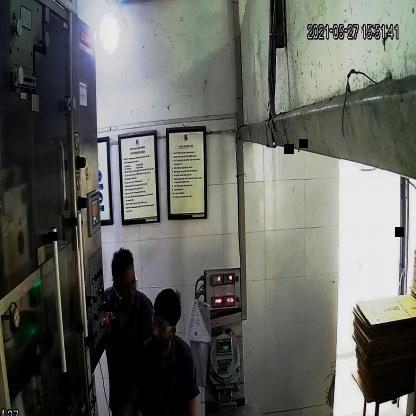goggles: (150, 309, 177, 334)
